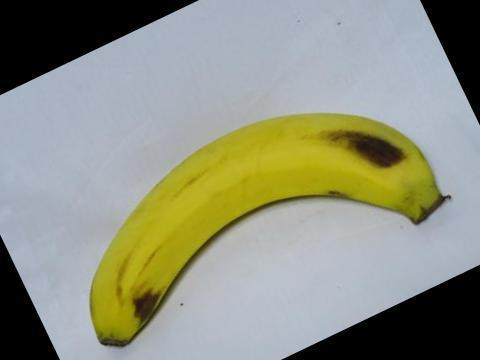freshripe: (77, 96, 461, 359)
